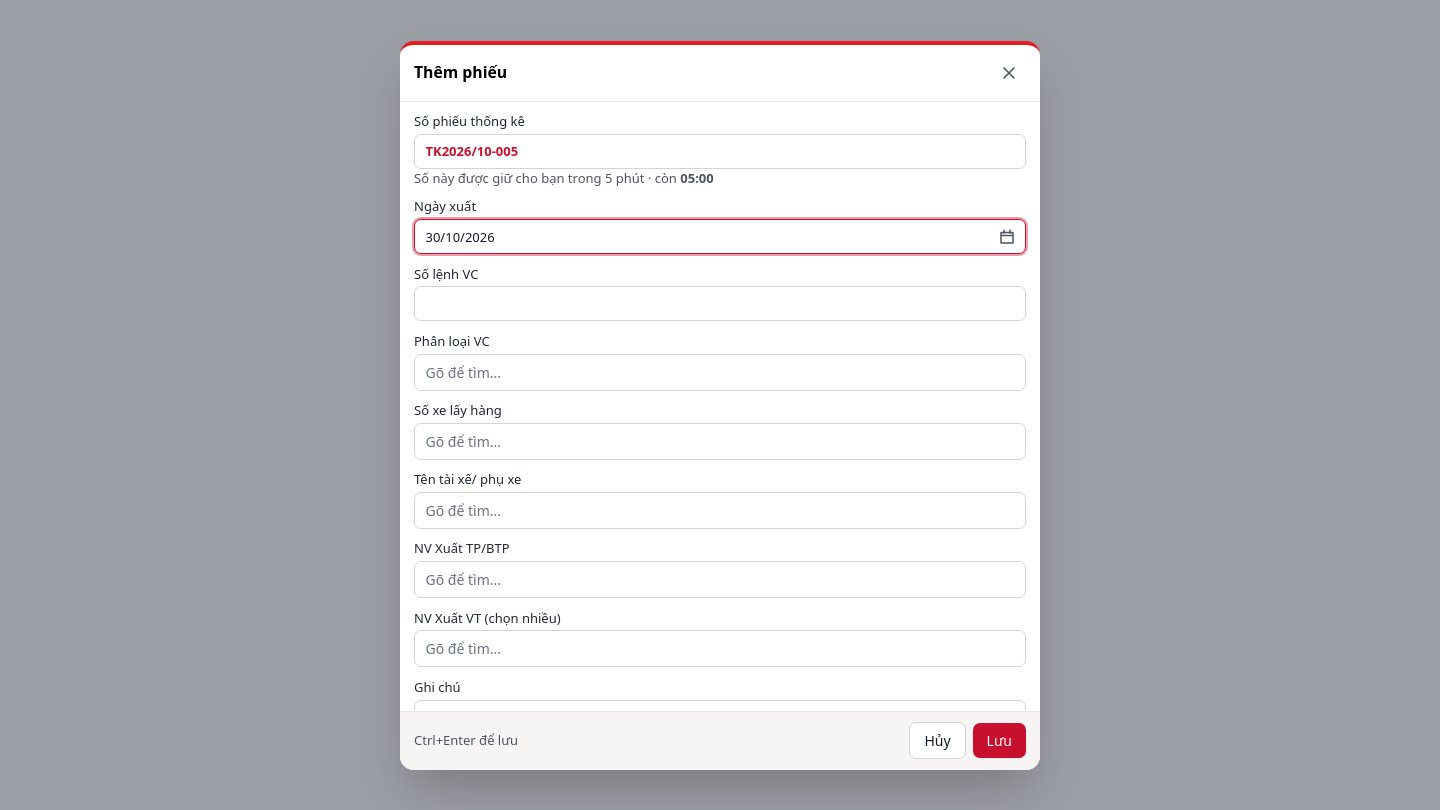
Test case: PlanFormModal - giữ chỗ số TK (D-018) › lưu lỗi → vẫn giữ chỗ (chưa release)
Check: the field with test id "tk-number" holds "TK2026/10-005", box [414,134,1026,169]
Click the button with test id "plan-save" at [999, 740], box [973,723,1026,758]
(page scrolled)
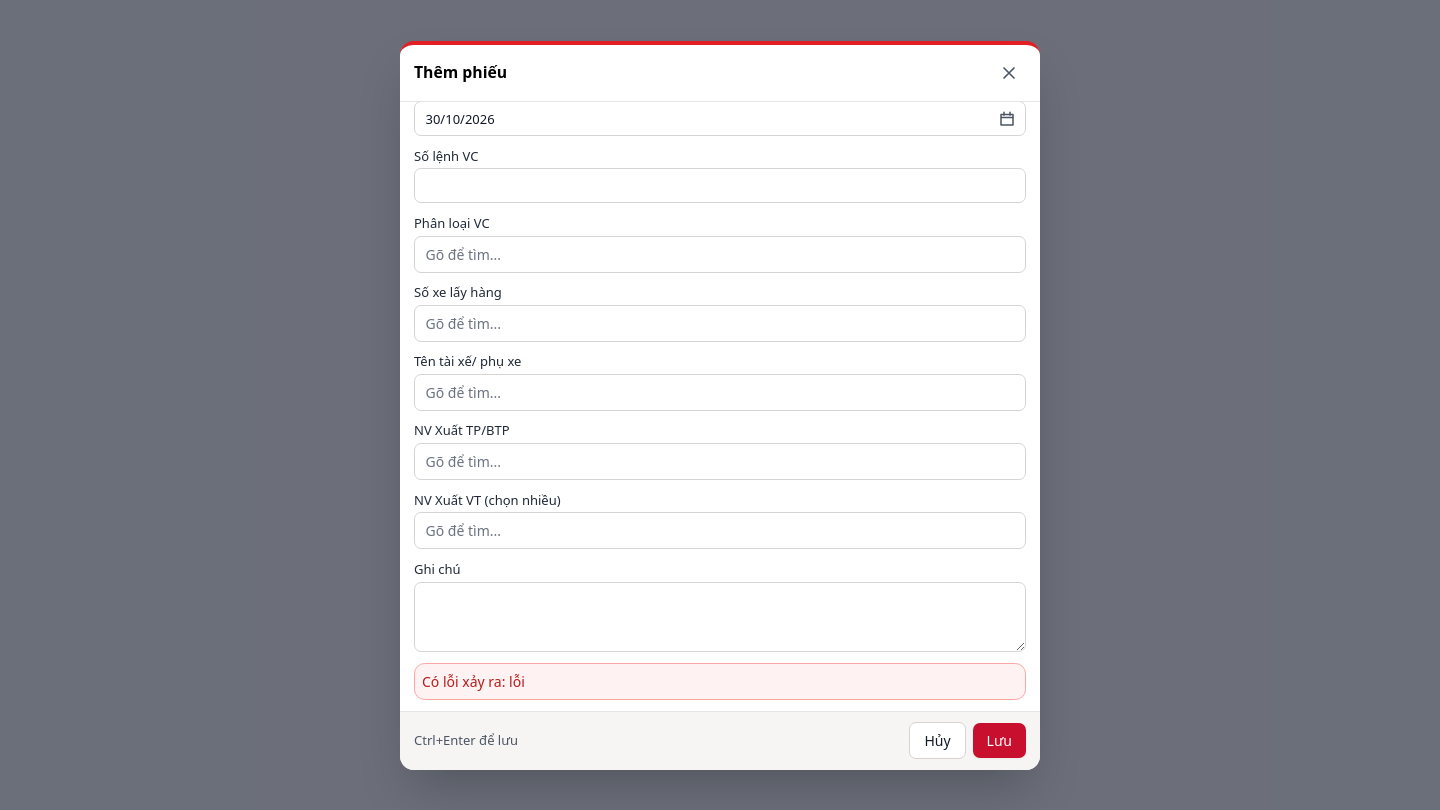
Check: the message "Có lỗi xảy ra: lỗi" is shown, box [414,663,1026,700]
